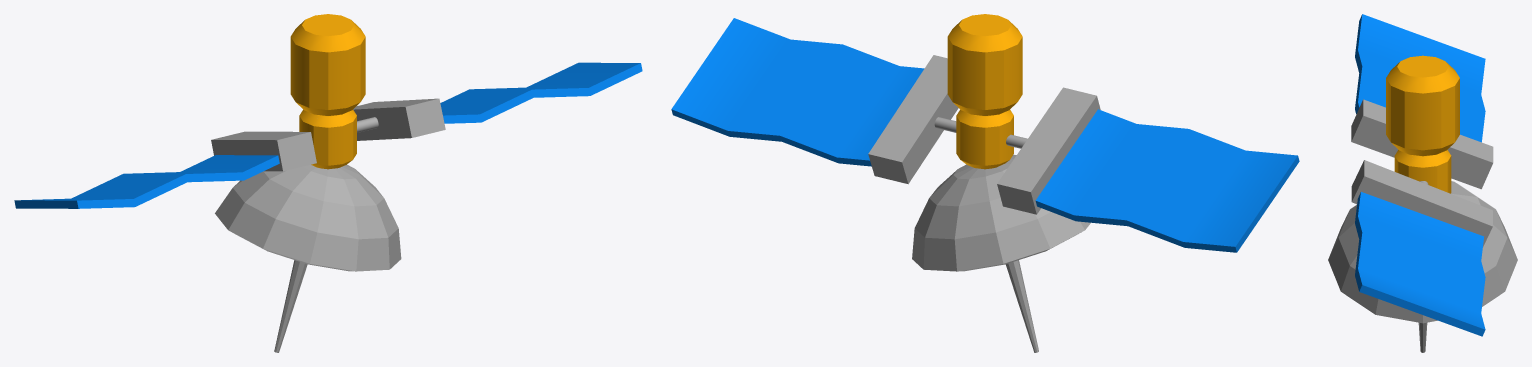
File: satellite.fbx
3 renders of one model, left to right at view 1: azimuth 30°, elevation 25°; view 2: azimuth 150°, elevation 25°; view 3: azimuth 270°, elevation 25°, orthographic.
Parts seen in each view (by area): view 1: polySurface3; view 2: polySurface3; view 3: polySurface3.
Boxes of the visible parts, left/top/right/bottom form: polySurface3: left=14, top=14, right=642, bottom=352; polySurface3: left=671, top=14, right=1299, bottom=352; polySurface3: left=1328, top=14, right=1517, bottom=352.
Bounding box in the file's own units: 1015 × 542 × 301.
